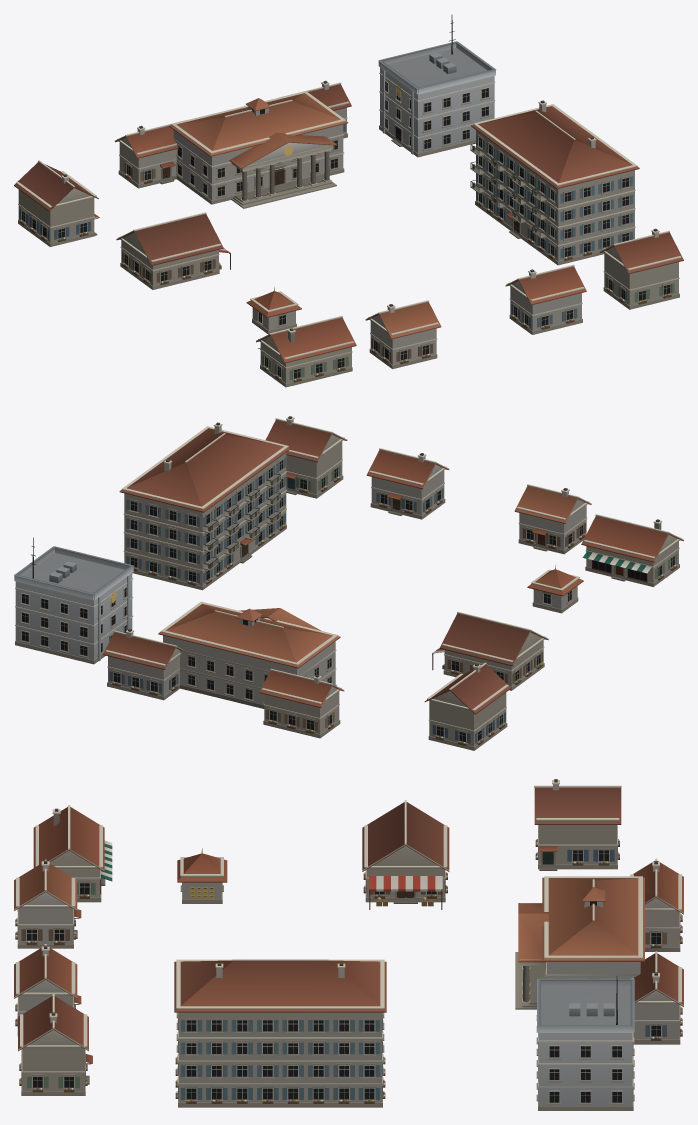
File: town.glb
3 renders of one model, top to bottom at view 1: azimuth 30°, elevation 25°; view 2: azimuth 150°, elevation 25°; view 3: azimuth 270°, elevation 25°, orthographic. The views are drawn at different scales.
Visible parts, largest first — view 1: town; view 2: town; view 3: town.
Part boxes in pixels (<box>): town: <box>14,14,683,387</box>; town: <box>14,416,683,750</box>; town: <box>14,779,683,1110</box>.
Bounding box in the file's own units: 81.81 × 18.05 × 85.6.
